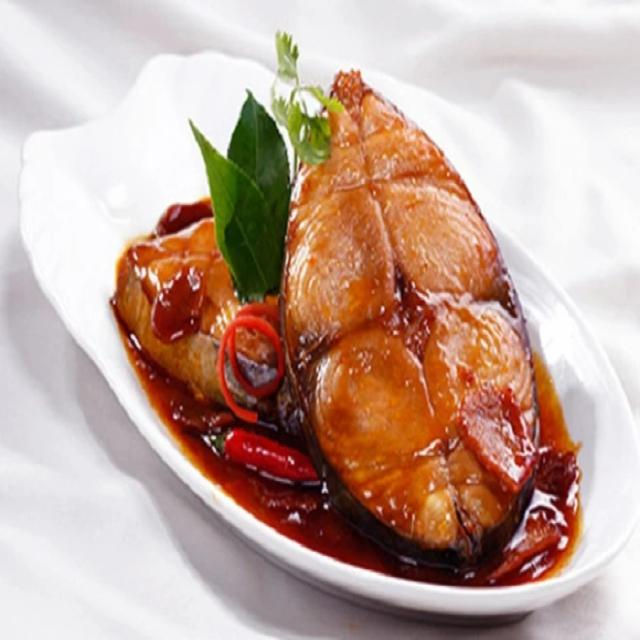ca kho: (280, 71, 539, 559), (113, 219, 241, 419), (236, 326, 277, 382), (259, 300, 278, 340)
ot: (223, 427, 319, 484)
